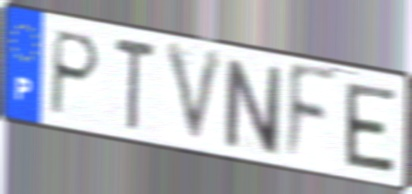E: (343, 80, 398, 177)
F: (282, 59, 340, 167)
N: (222, 53, 283, 159)
P: (46, 26, 104, 120)
T: (112, 34, 158, 134)
V: (162, 40, 228, 152)
